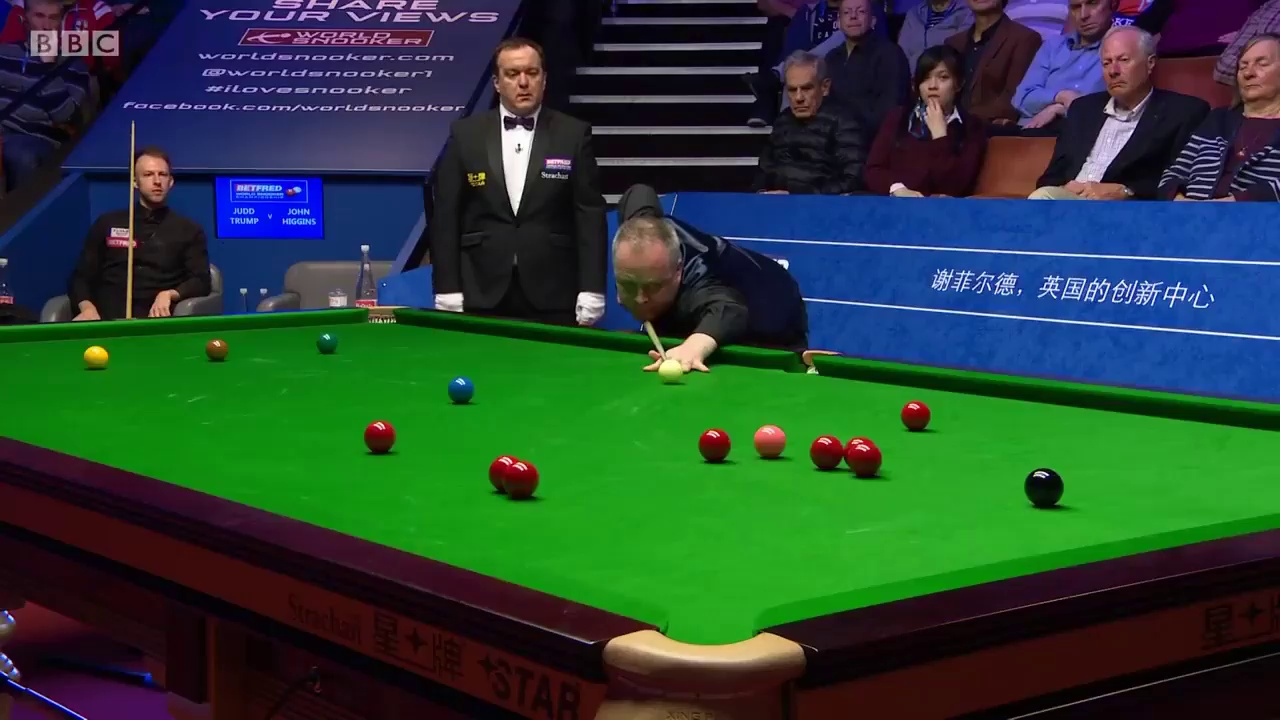ball: (1022, 469, 1064, 504), (749, 424, 791, 457), (697, 425, 732, 461), (506, 461, 540, 494), (362, 419, 398, 450), (845, 445, 880, 473), (898, 399, 931, 428), (446, 372, 475, 401), (83, 343, 109, 368), (206, 337, 229, 360), (316, 331, 335, 352)
